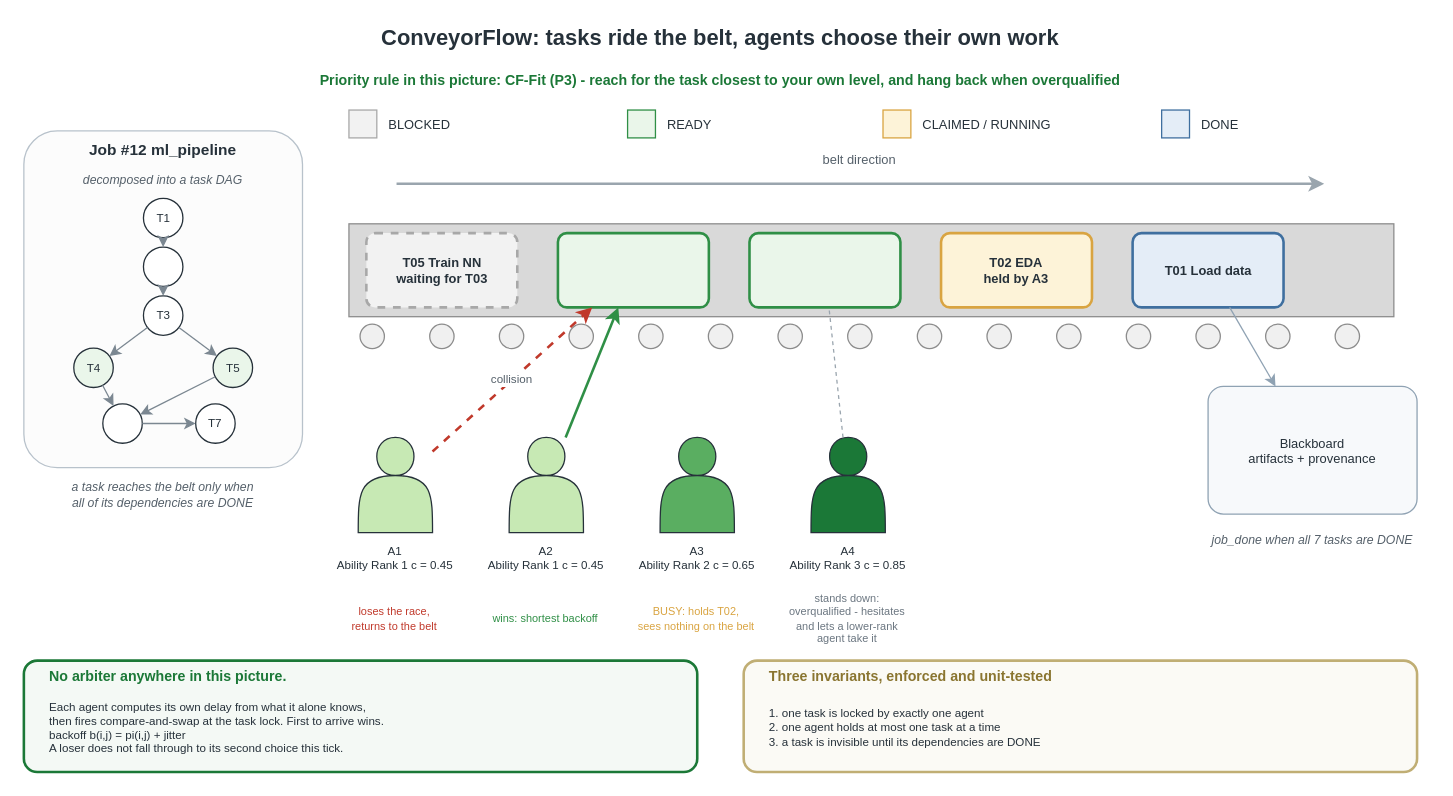
This 1453x796 diagram has some shape labels left out. Here are the shapes that lost their labels. From the top down, the centre of each, then its label:
At (162,266): "T2".
At (633,269): "T04 Train tree".
At (824,269): "T03 Cleansing".
At (122,422): "T6".
